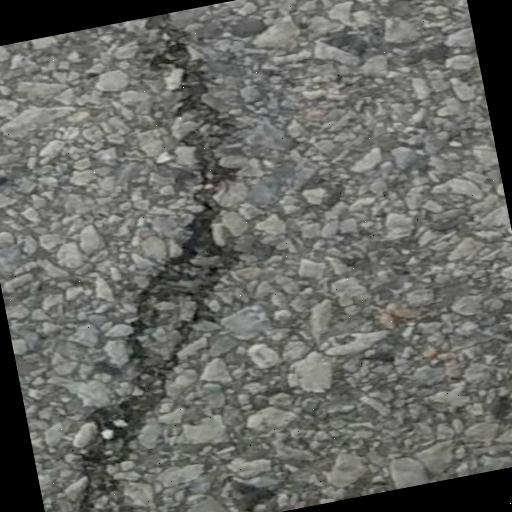spalling: (66, 13, 240, 512)
